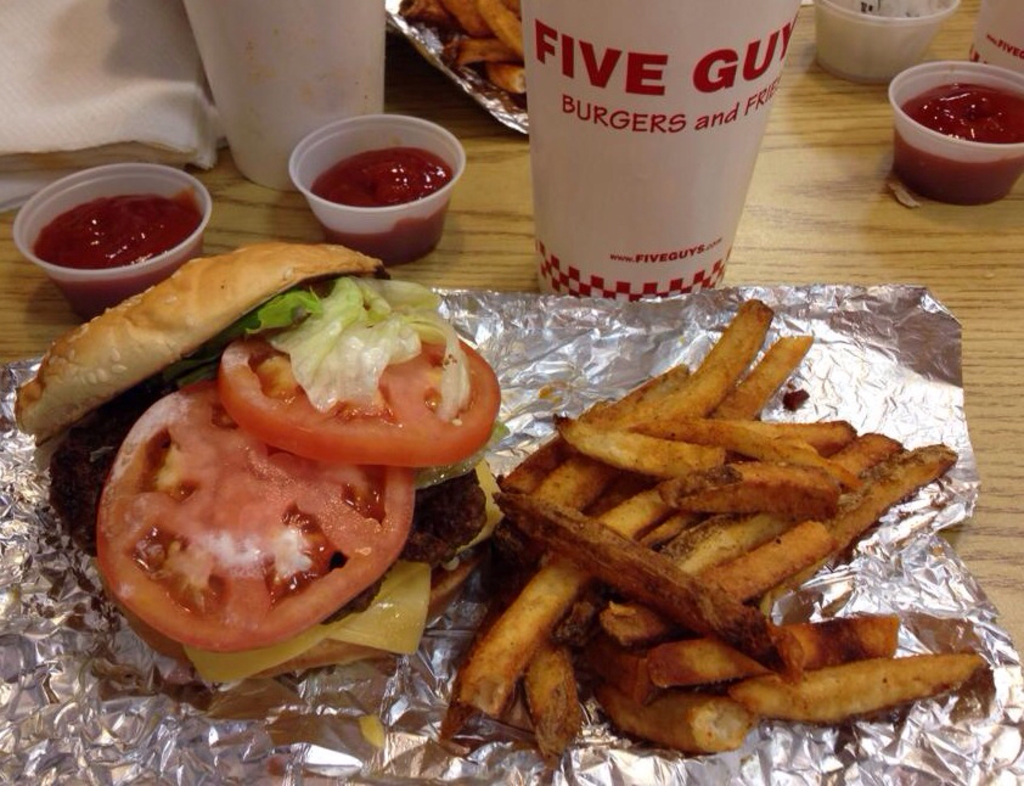French fries: (470, 299, 957, 691)
